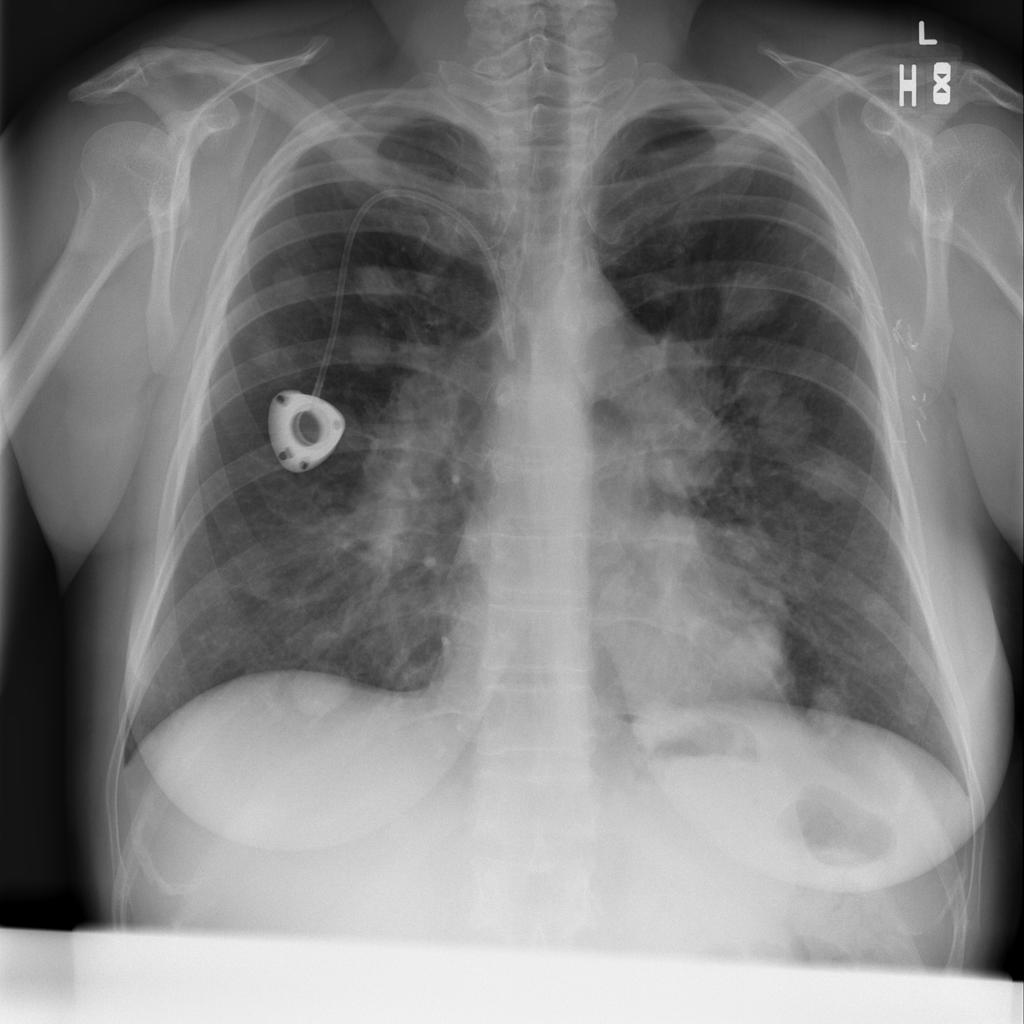nodule: (695, 610, 805, 713), (707, 254, 791, 338), (791, 440, 871, 517), (281, 650, 362, 726), (749, 383, 824, 462), (729, 350, 797, 433), (793, 667, 866, 740), (226, 545, 294, 616), (256, 247, 325, 316), (713, 510, 782, 579), (333, 311, 401, 381), (341, 250, 412, 313), (239, 324, 295, 374), (850, 579, 902, 630), (886, 682, 939, 731)
